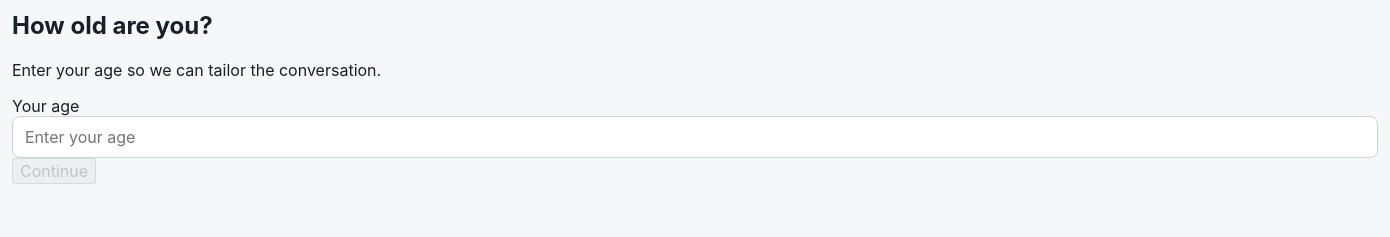
Test: submits a valid age and proceeds without showing an error
Type "10" into the number field labelled "Your age".
click(695, 137); type("10")  # box [12,116,1378,158]
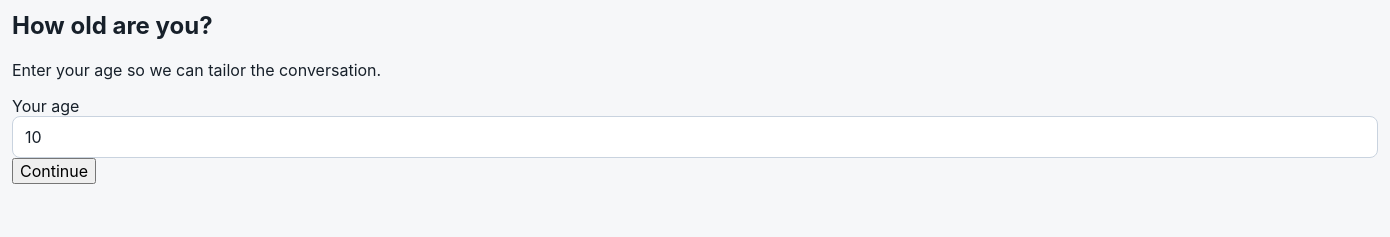
Click the button "Continue".
click(54, 171)  # box [12,158,96,184]
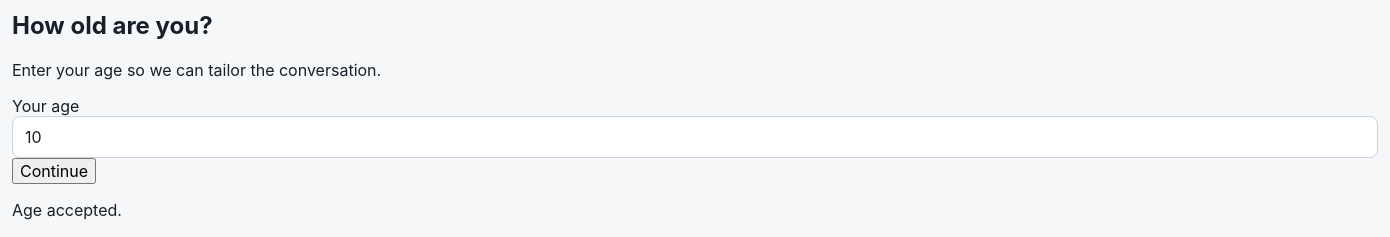
Result: the text "Age accepted." is shown at [12,200,122,220]
